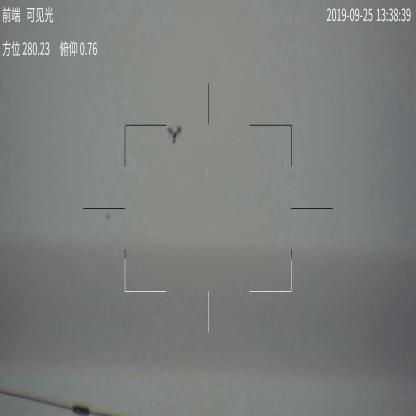uav: (164, 123, 180, 147)
